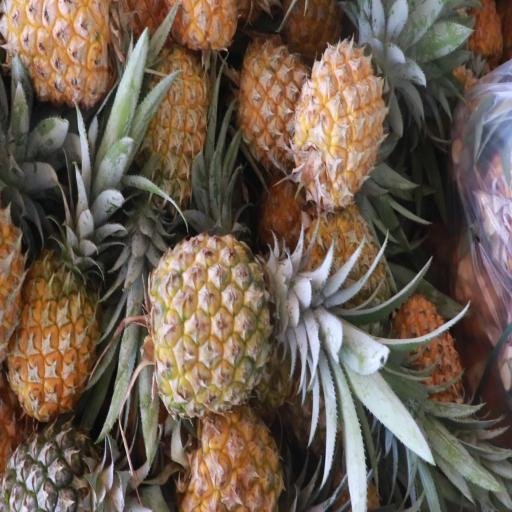------------------------------: (146, 229, 344, 419)
Pineapple - v8 v1: (6, 157, 104, 424), (291, 46, 405, 202), (173, 401, 320, 512), (133, 46, 211, 205), (236, 32, 311, 173)
